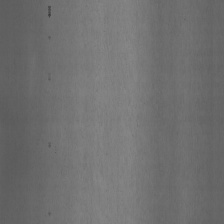oil_spot: (73, 7, 137, 203), (46, 68, 52, 84), (46, 4, 52, 18), (46, 138, 51, 152), (47, 208, 52, 219), (47, 33, 51, 42)
